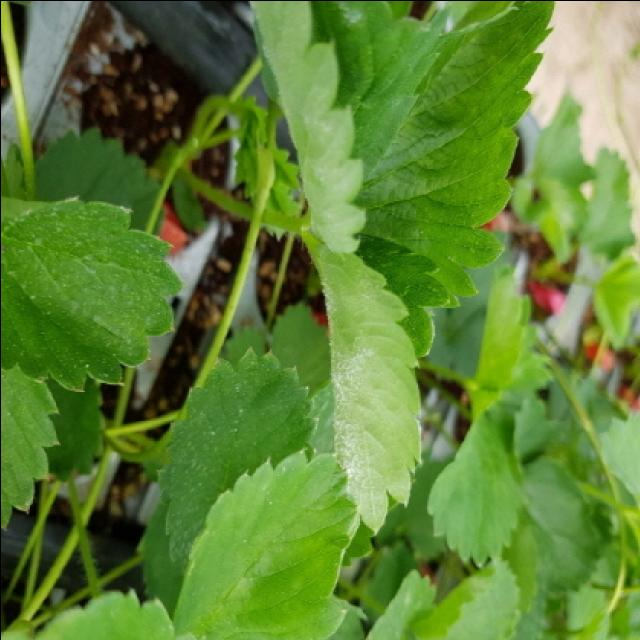Powdery Mildew Leaf: (247, 2, 450, 252), (294, 227, 449, 535)
